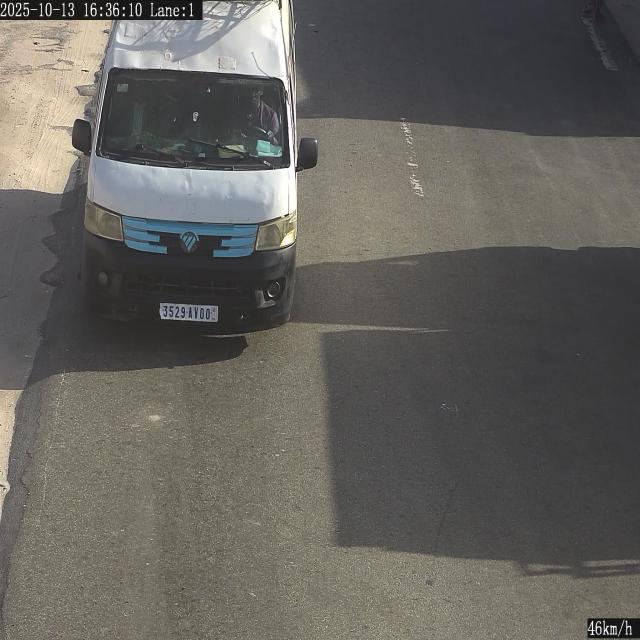BUS: (160, 304, 218, 322)
